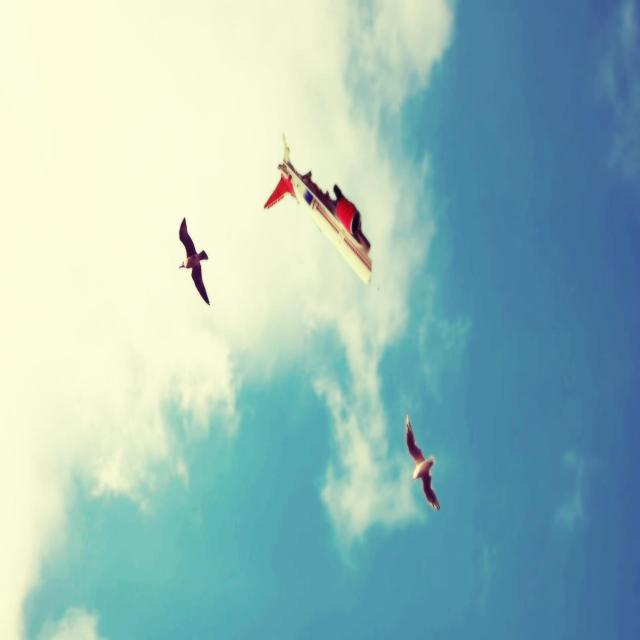airplane: (263, 131, 372, 285)
